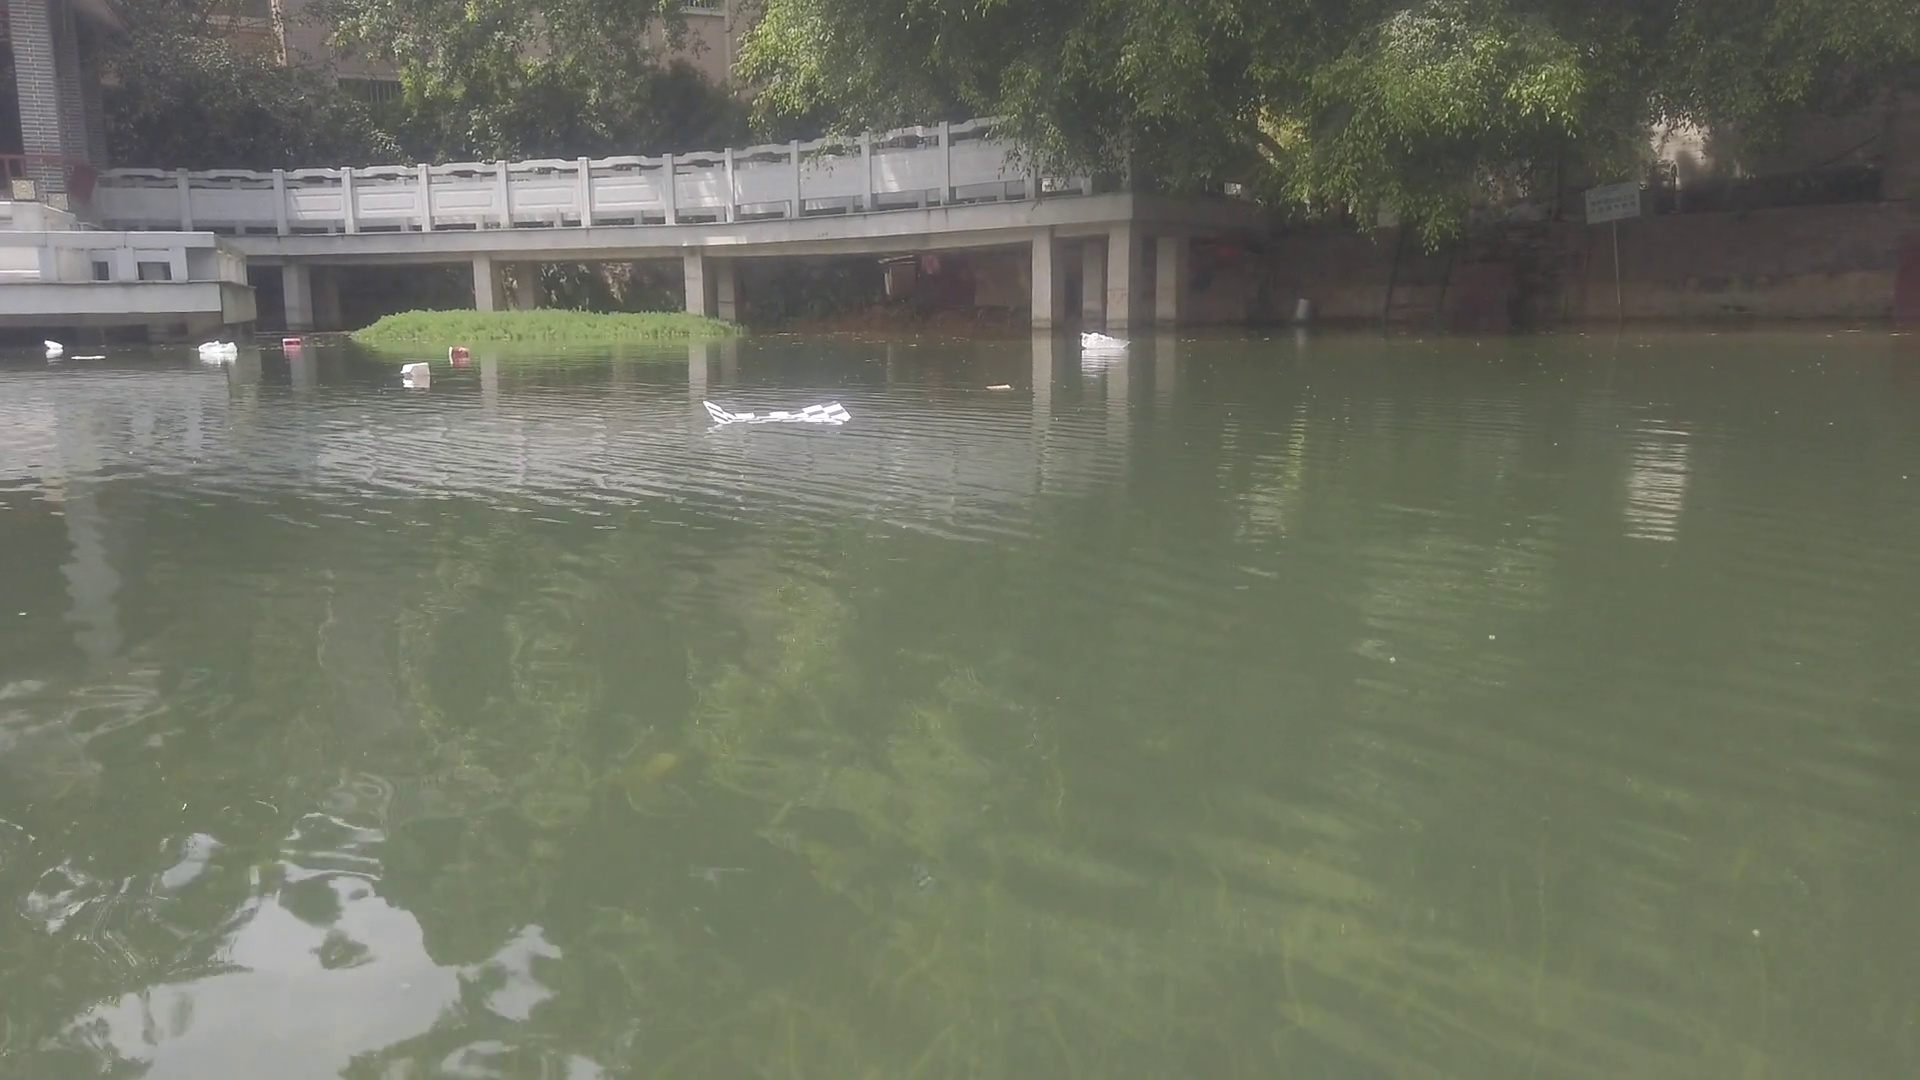bottle: (447, 342, 469, 357), (281, 338, 303, 347)
carton: (404, 360, 435, 376)
paper: (704, 398, 856, 429), (69, 351, 105, 364), (986, 382, 1010, 390)
plastic: (1077, 328, 1133, 351), (195, 338, 241, 357), (41, 335, 65, 353)
